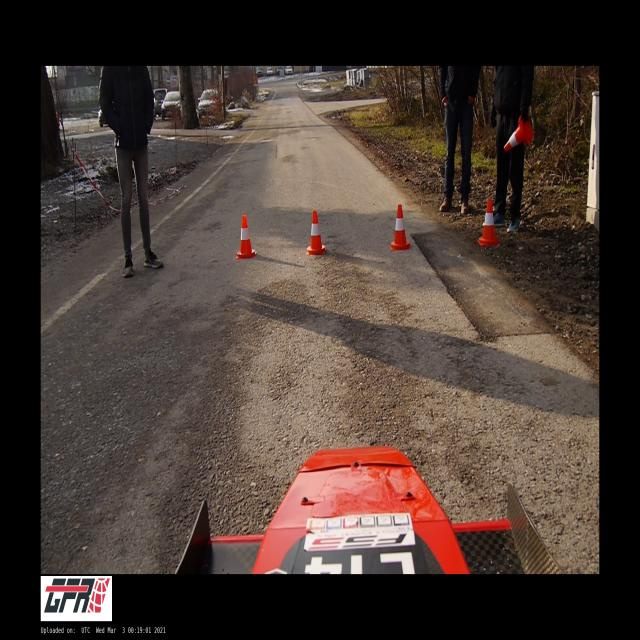orange_cone: (504, 115, 534, 151), (478, 200, 500, 245), (236, 215, 257, 258), (306, 210, 326, 254), (391, 205, 410, 250)
